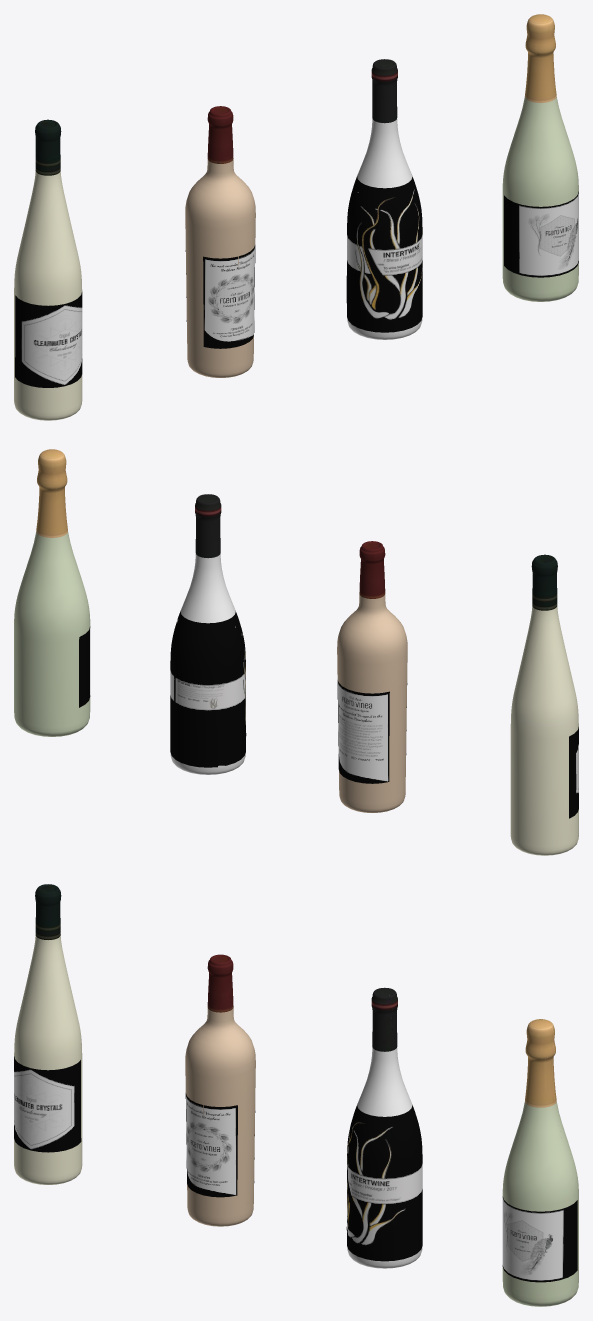
File: wine_bottles_01.glb
3 views of the same model, one above another, from view 1: azimuth 30°, elevation 25°; view 2: azimuth 150°, elevation 25°; view 3: azimuth 330°, elevation 25° (orthographic).
Parts seen in each view (by area): view 1: wine_bottles_01_bordeaux, wine_bottles_01_burgundy, wine_bottles_01_alsace, wine_bottles_01_champagne; view 2: wine_bottles_01_bordeaux, wine_bottles_01_burgundy, wine_bottles_01_champagne, wine_bottles_01_alsace; view 3: wine_bottles_01_bordeaux, wine_bottles_01_burgundy, wine_bottles_01_alsace, wine_bottles_01_champagne.
Boxes of the visible parts, left/top/right/bottom form: wine_bottles_01_bordeaux: left=14, top=14, right=578, bottom=420; wine_bottles_01_burgundy: left=346, top=176, right=422, bottom=332; wine_bottles_01_alsace: left=15, top=292, right=82, bottom=387; wine_bottles_01_champagne: left=504, top=191, right=578, bottom=277; wine_bottles_01_bordeaux: left=14, top=449, right=578, bottom=855; wine_bottles_01_burgundy: left=170, top=611, right=246, bottom=767; wine_bottles_01_champagne: left=79, top=626, right=90, bottom=707; wine_bottles_01_alsace: left=569, top=727, right=578, bottom=818; wine_bottles_01_bordeaux: left=14, top=884, right=578, bottom=1306; wine_bottles_01_burgundy: left=346, top=1105, right=422, bottom=1261; wine_bottles_01_alsace: left=14, top=1056, right=81, bottom=1152; wine_bottles_01_champagne: left=502, top=1196, right=577, bottom=1282.
Size of the model in its own units: 0.6763 by 0.3313 by 0.0805.
9 materials, 6 textured.
